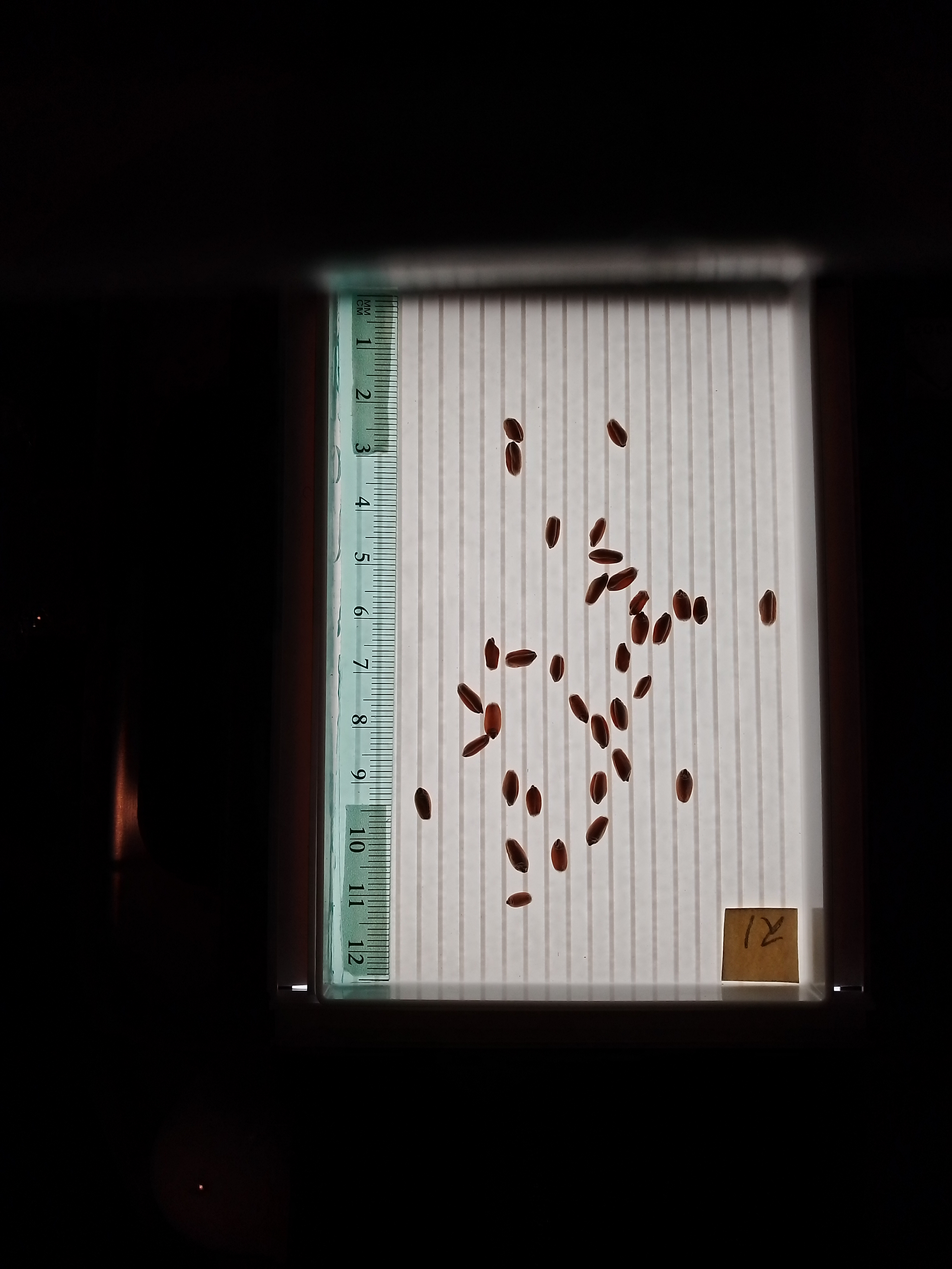seed mask: (506, 839, 528, 872), (608, 567, 637, 592), (458, 684, 483, 713), (759, 591, 777, 626), (484, 704, 502, 738), (586, 575, 607, 604), (587, 816, 608, 845), (463, 734, 489, 757), (591, 715, 609, 748), (612, 750, 631, 781), (607, 418, 627, 447), (653, 614, 672, 644), (414, 789, 432, 820), (503, 771, 519, 805), (504, 418, 524, 445), (673, 591, 691, 621), (506, 650, 536, 668), (611, 699, 628, 730), (569, 695, 588, 722), (590, 549, 622, 565), (676, 771, 692, 803), (632, 614, 649, 644), (591, 773, 607, 804), (506, 442, 521, 475), (526, 786, 542, 816), (551, 841, 567, 871), (545, 517, 560, 548), (590, 518, 606, 546), (615, 644, 631, 672), (507, 891, 531, 909), (693, 596, 708, 624), (630, 592, 648, 615), (485, 640, 499, 669), (634, 676, 652, 698), (550, 655, 564, 681)
